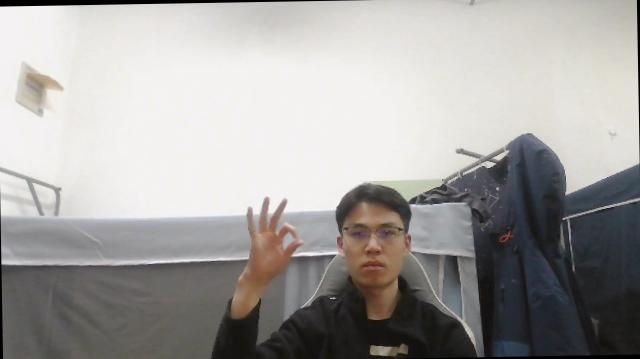ok: (244, 193, 306, 272)
